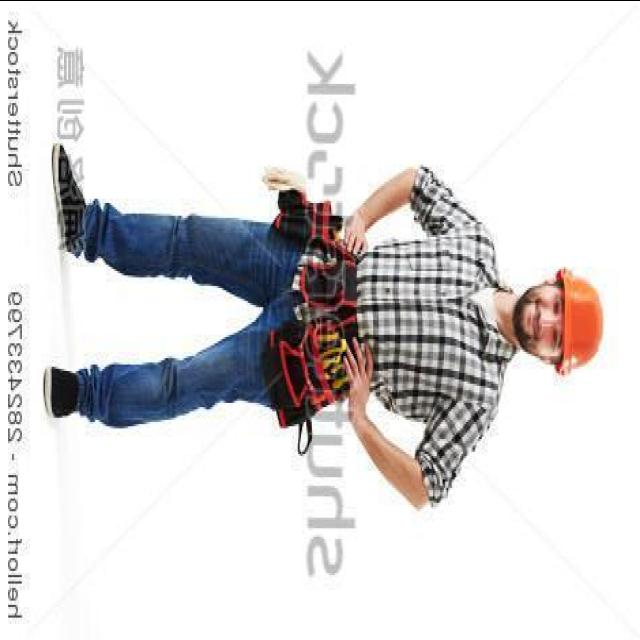helmet: (556, 260, 610, 388)
